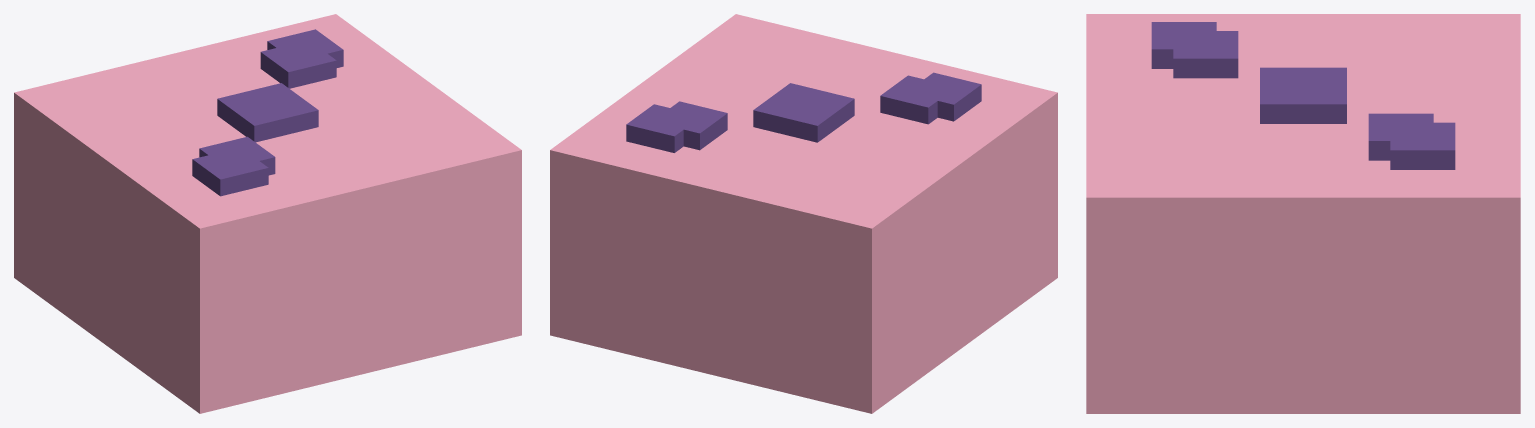
The model's file is GoalThree.obj.
3 renders of one model, left to right at view 1: azimuth 30°, elevation 25°; view 2: azimuth 150°, elevation 25°; view 3: azimuth 270°, elevation 25°, orthographic. The views are drawn at different scales.
Bounding box in the file's own units: 2 × 1.2 × 2.
